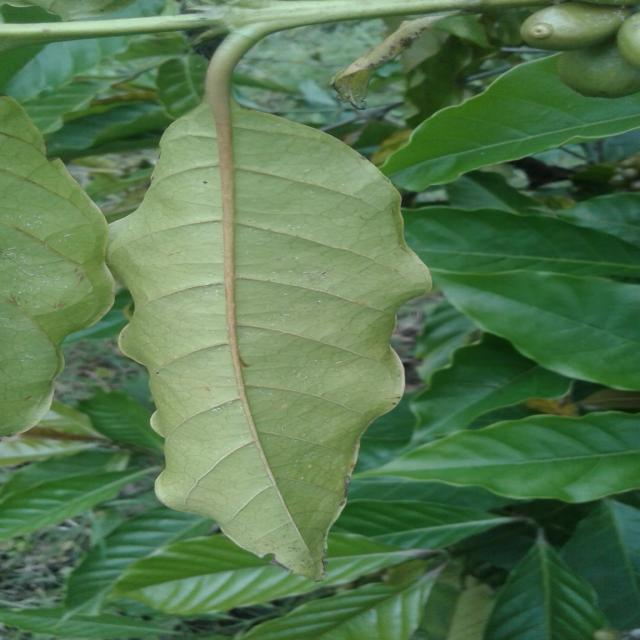Sanas: (104, 79, 434, 581)
